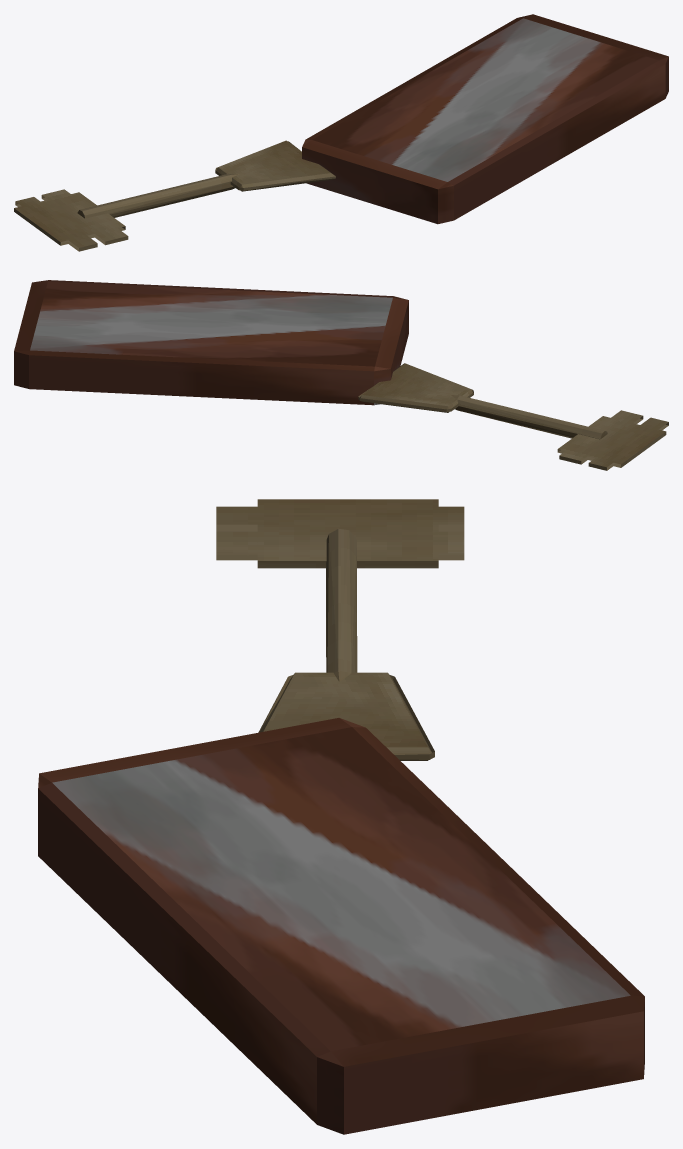
File: Llaves.obj
The picture shows the model from 3 angles, top to bottom: view 1: azimuth 30°, elevation 25°; view 2: azimuth 150°, elevation 25°; view 3: azimuth 270°, elevation 25°; orthographic projection. The views are drawn at different scales.
Parts seen in each view (by area): view 1: Cube.002, Cube.001, Cube, Cylinder; view 2: Cube.002, Cube.001, Cube, Cylinder; view 3: Cube.002, Cube.001, Cube, Cylinder.
Boxes of the visible parts, left/top/right/bottom form: Cube.002: left=302, top=14, right=668, bottom=224; Cube.001: left=14, top=189, right=128, bottom=251; Cube: left=215, top=140, right=335, bottom=191; Cylinder: left=77, top=174, right=239, bottom=218; Cube.002: left=14, top=280, right=408, bottom=405; Cube.001: left=557, top=410, right=668, bottom=470; Cube: left=358, top=363, right=473, bottom=412; Cylinder: left=451, top=395, right=607, bottom=439; Cube.002: left=38, top=718, right=644, bottom=1134; Cube.001: left=216, top=499, right=464, bottom=568; Cube: left=258, top=672, right=434, bottom=760; Cylinder: left=326, top=528, right=357, bottom=681.
Bounding box in the file's own units: 14.89 × 0.8608 × 6.38.
